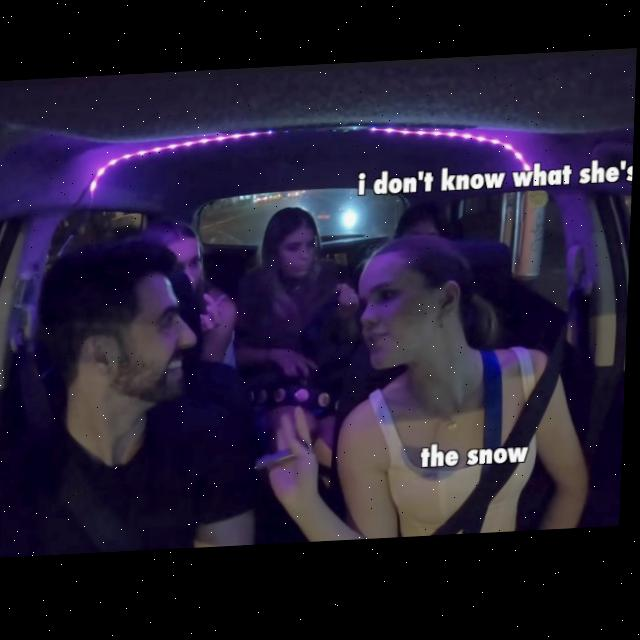vape: (253, 452, 299, 477)
